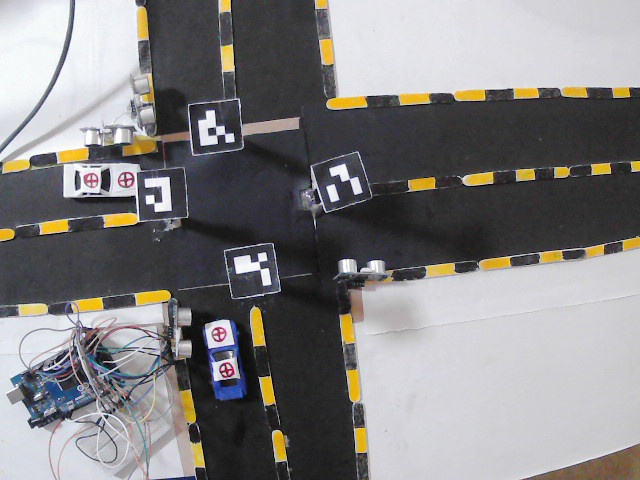aruco_marker: (309, 152, 372, 213), (223, 240, 280, 298), (187, 101, 244, 153), (137, 169, 190, 220)
emergency_vehicle: (203, 318, 249, 404), (61, 161, 143, 202)
uno_breadboard: (4, 326, 129, 433), (68, 383, 171, 478), (333, 256, 391, 292), (166, 300, 197, 360), (128, 72, 158, 132), (78, 121, 137, 151)
